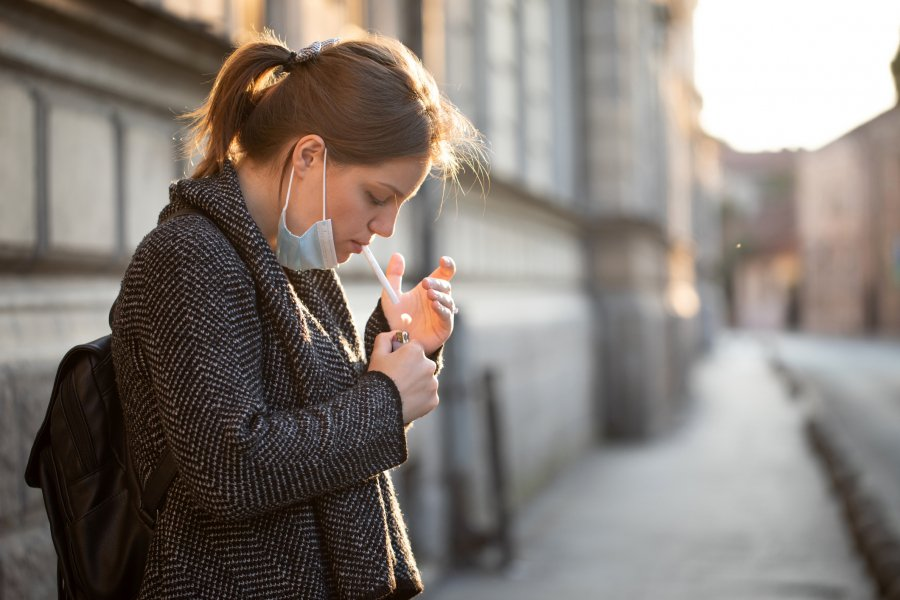with_incorrect_mask: (290, 136, 423, 279)
